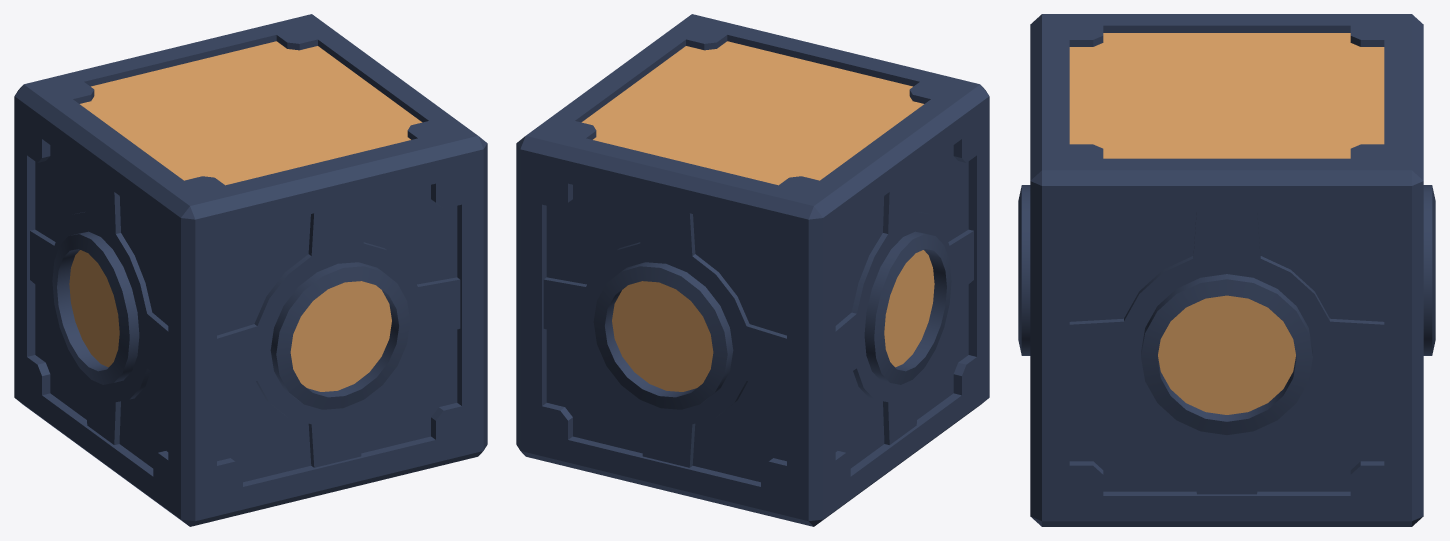
File: conductorBlock_Model.fbx
3 views of the same model, side by side, from view 1: azimuth 30°, elevation 25°; view 2: azimuth 150°, elevation 25°; view 3: azimuth 270°, elevation 25° (orthographic). The views are drawn at different scales.
Visible parts, largest first — view 1: conductorBlock; view 2: conductorBlock; view 3: conductorBlock.
Part boxes in pixels (<box>): conductorBlock: <box>14,14,487,526</box>; conductorBlock: <box>516,14,989,526</box>; conductorBlock: <box>1018,14,1435,526</box>.
Size of the model in its own units: 2.65 by 2.5 by 2.65.
